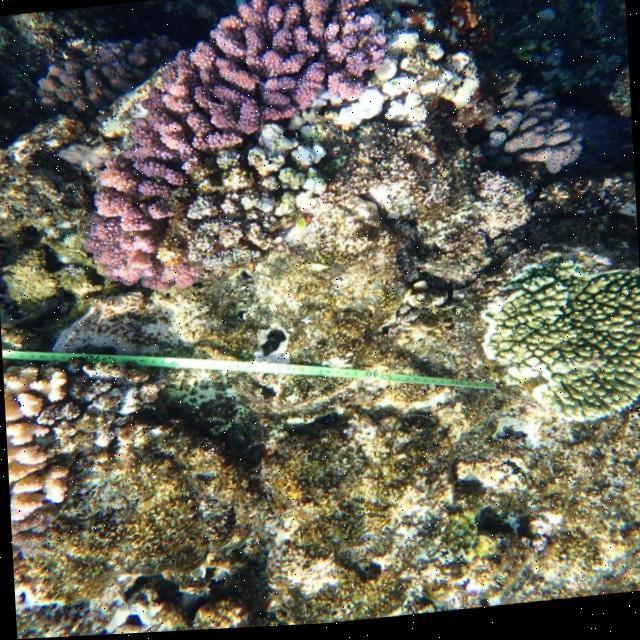Bleached Coral: (210, 169, 361, 324), (328, 20, 482, 137)
Healthy Coral: (87, 2, 325, 290), (483, 257, 640, 421)
